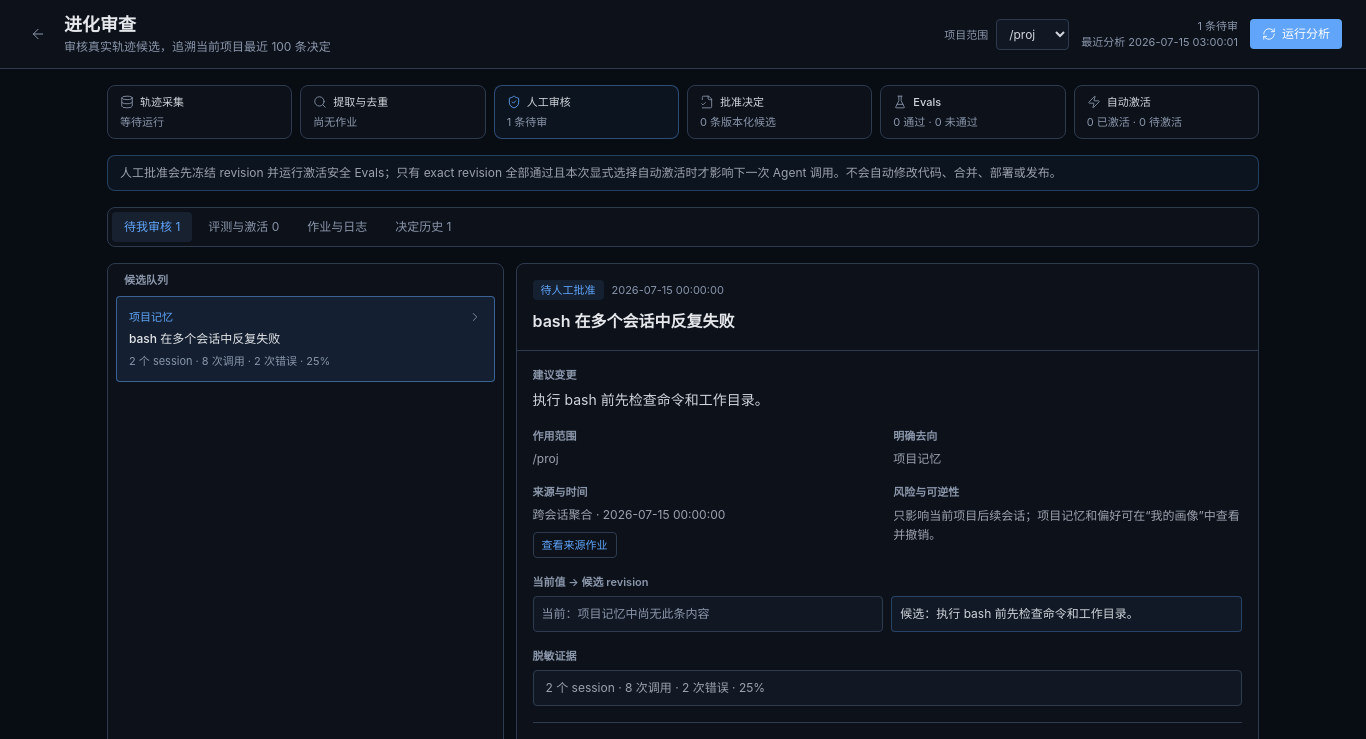
it: EvolutionWorkbenchPage › keeps an unavailable exact source selected after refresh
Click the button "查看来源作业": click(574, 545) [532, 532, 616, 558]
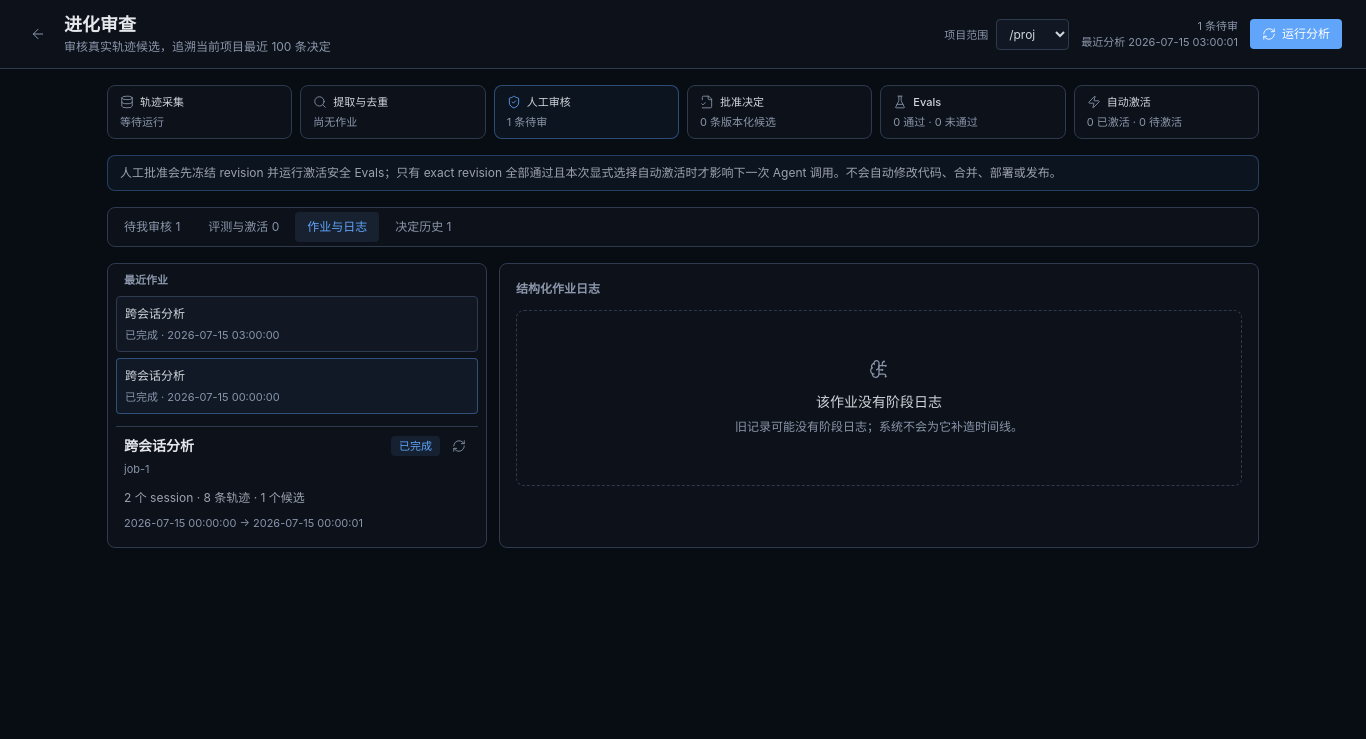
expect the text "job-1" is shown: met, box [124, 462, 150, 476]
Click the button named "刷新作业日志": click(459, 446) [448, 435, 470, 457]
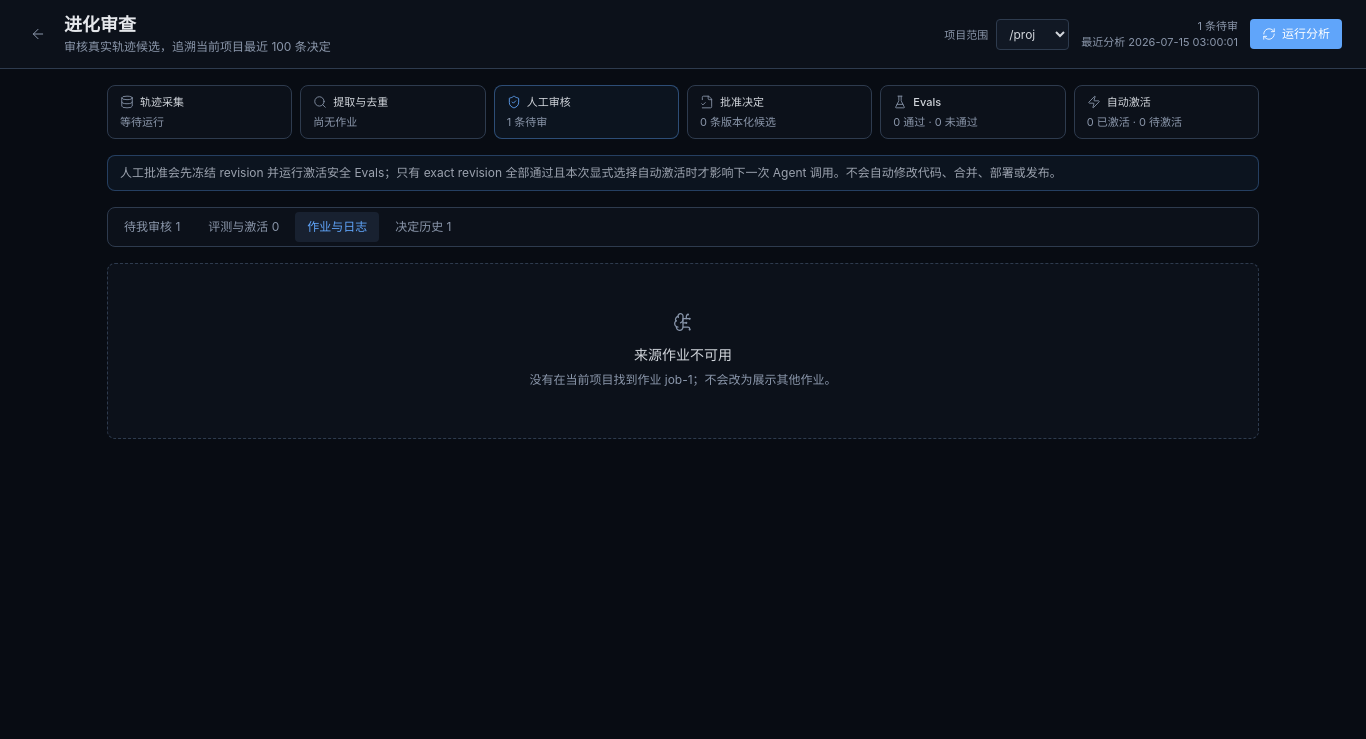
expect the text "来源作业不可用" is shown: met, box [634, 346, 732, 363]
expect the text "没有在当前项目找到作业 job-1；不会改为展示其他作业。" is shown: met, box [529, 372, 837, 387]
